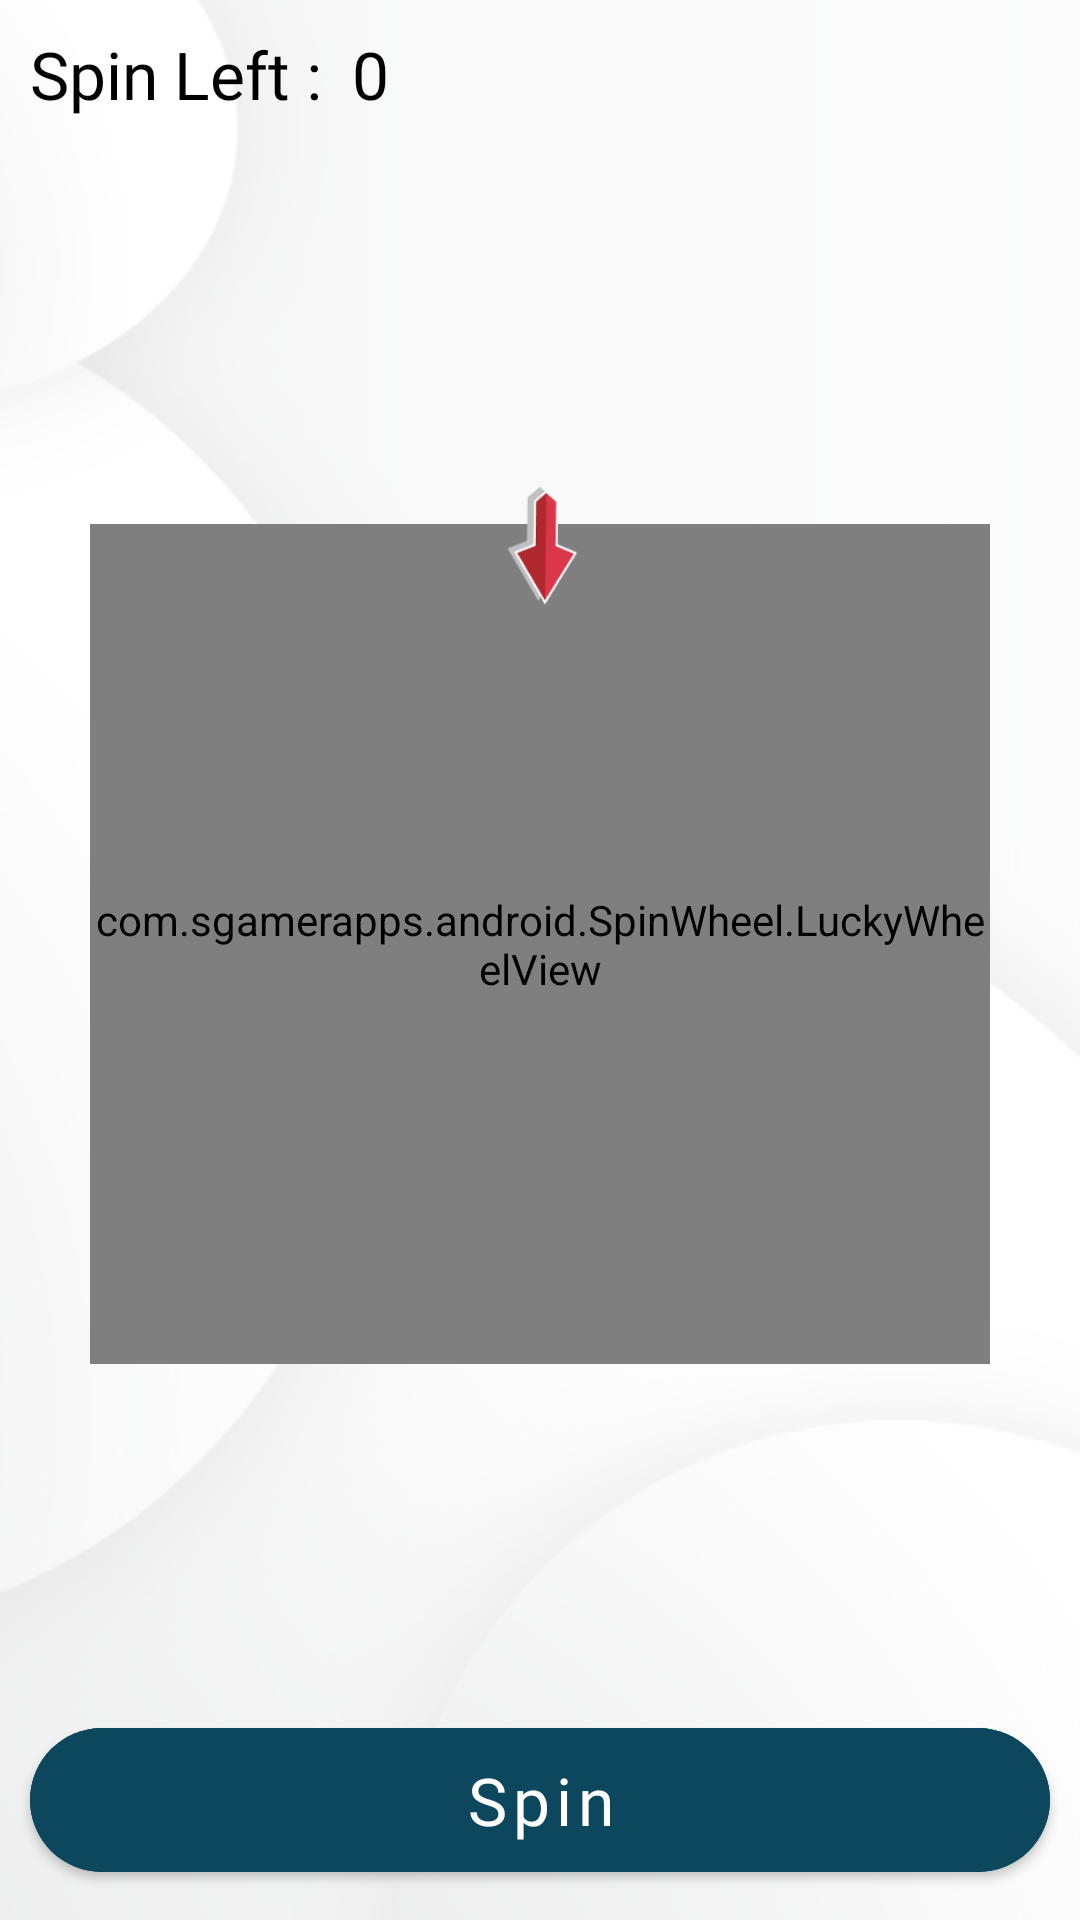

Named icons in this screenshot (1080w x 1920h) and their centers, (x,y):
spinner pointer: (540,539)
